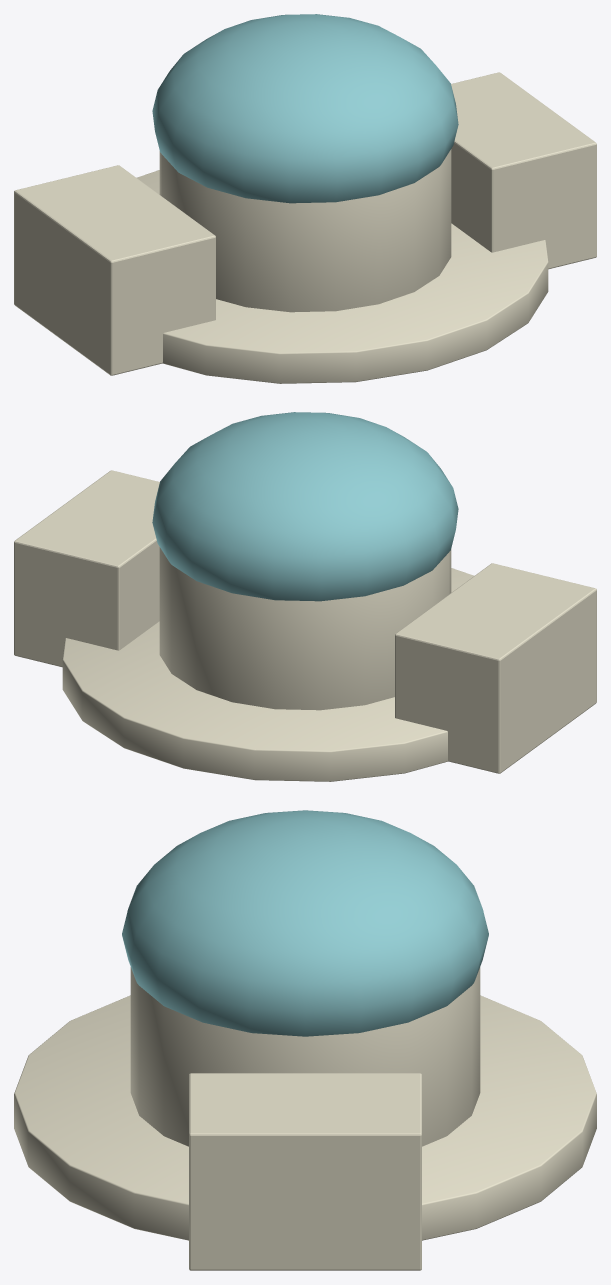
The model's file is landmark-aether.glb.
3 renders of one model, top to bottom at view 1: azimuth 30°, elevation 25°; view 2: azimuth 150°, elevation 25°; view 3: azimuth 270°, elevation 25°, orthographic. The views are drawn at different scales.
Visible parts, largest first — view 1: Geometry_Trim, Geometry_Glass; view 2: Geometry_Trim, Geometry_Glass; view 3: Geometry_Trim, Geometry_Glass.
Part boxes in pixels (bbox=[...]): Geometry_Trim: bbox=[14, 72, 596, 383]; Geometry_Glass: bbox=[152, 14, 458, 203]; Geometry_Trim: bbox=[14, 470, 596, 781]; Geometry_Glass: bbox=[152, 412, 458, 601]; Geometry_Trim: bbox=[14, 967, 596, 1270]; Geometry_Glass: bbox=[122, 810, 488, 1036].
Bounding box in the file's own units: 11.5 × 5.55 × 10.
